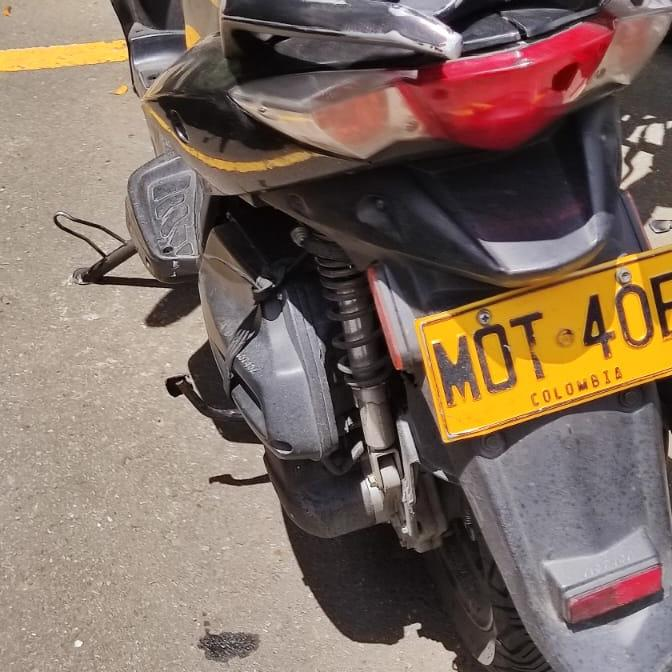plates: (414, 248, 672, 446)
